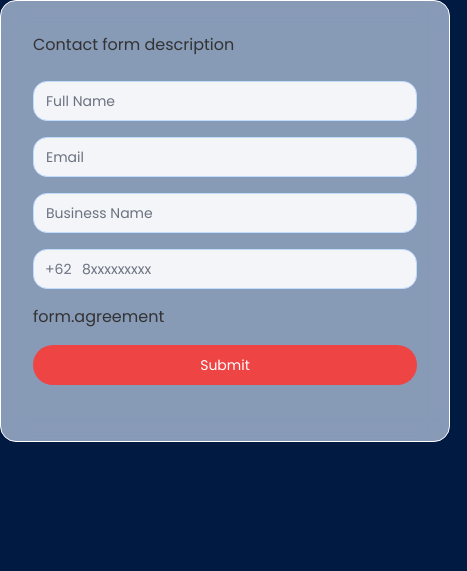
Test case: ContactForm › shows validation errors for empty fields
Click the button "Submit" at [225, 365], box [33,345,417,385]
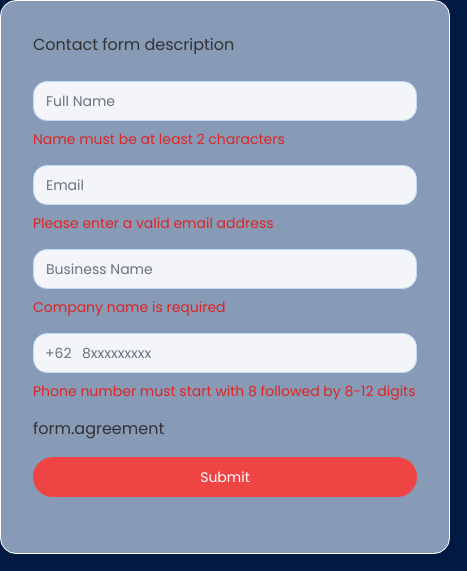
Now the text "Name must be at least 2 characters" is shown, box [33,129,285,149]
Now the text "Please enter a valid email address" is shown, box [33,213,274,233]
Now the text "Company name is required" is shown, box [33,297,226,317]
